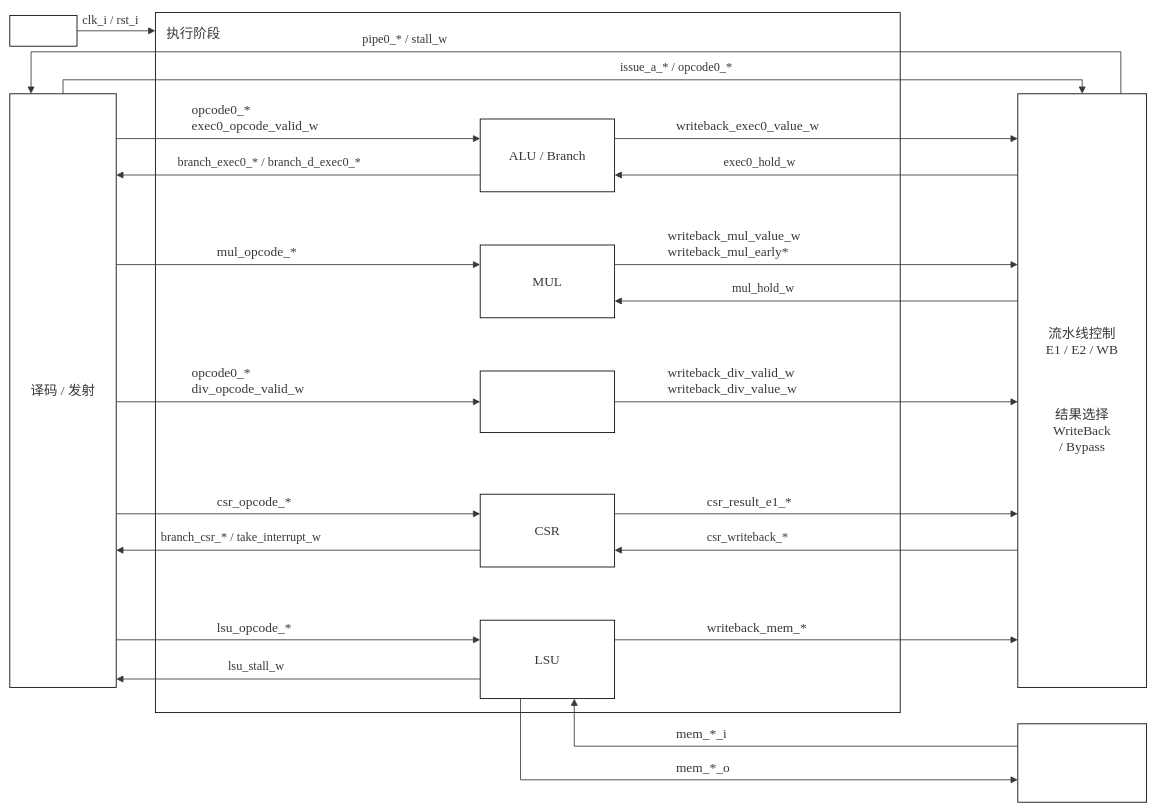
The diagram is 1157 pixels wide and 812 high, and some of its shapes have lost their labels. The centre of each missing label's shape, as x and y in pixels:
D-Cache: (1082,762)
DIV: (547,401)
TOP: (43,30)
